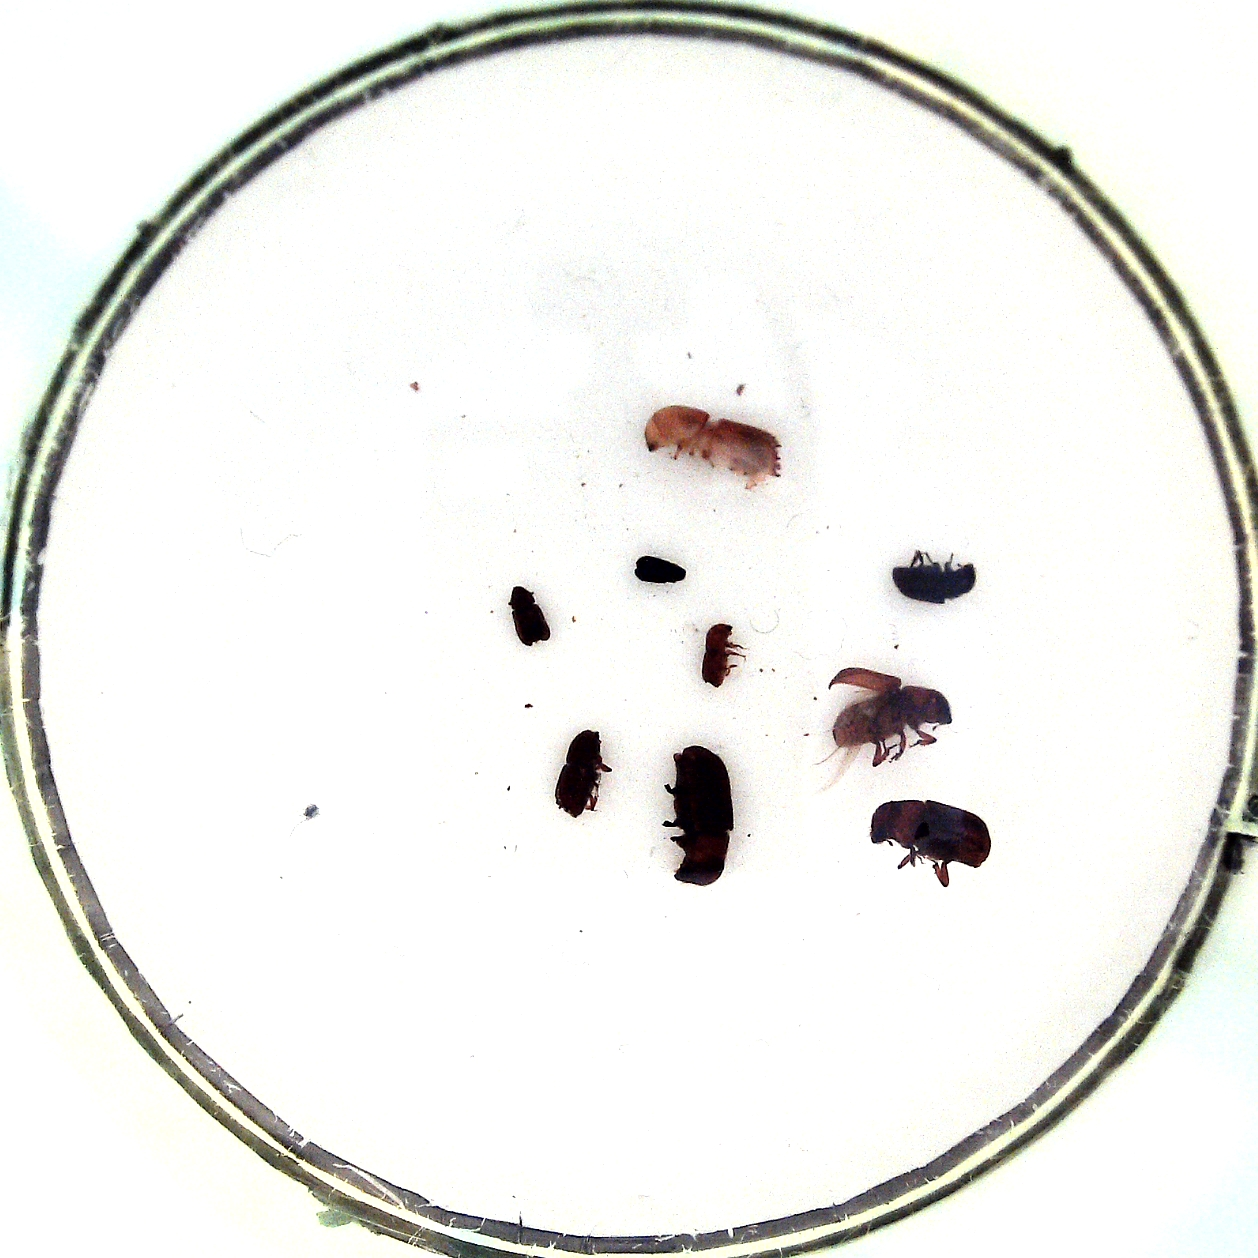Boerner: (644, 406, 781, 480)
Leconte: (670, 747, 734, 885), (870, 799, 990, 869), (832, 685, 953, 749)
acuminatus: (634, 555, 687, 583)
armandi: (891, 563, 976, 604)
coleoptera: (510, 585, 551, 646), (700, 624, 733, 685)
linnaeus: (555, 730, 603, 819)
